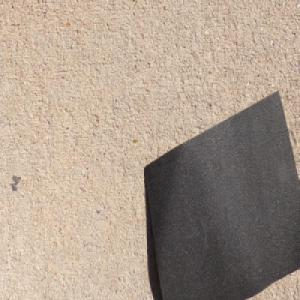PaintChip: (143, 89, 300, 300)
